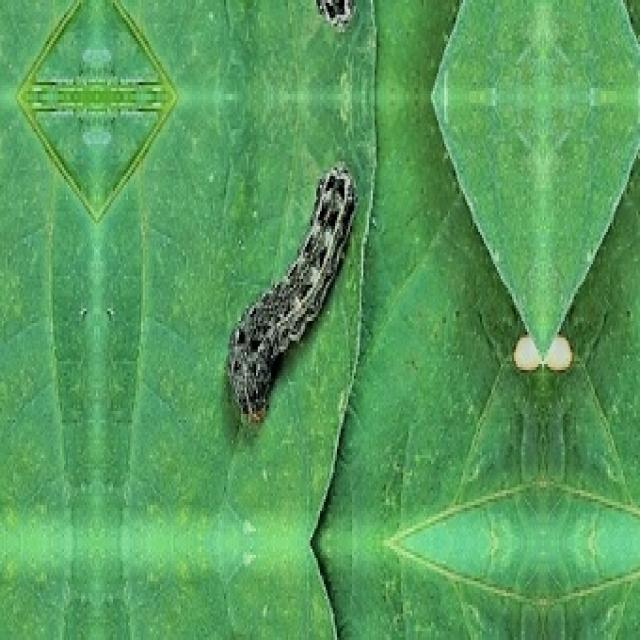armyworm: (224, 158, 358, 428)
